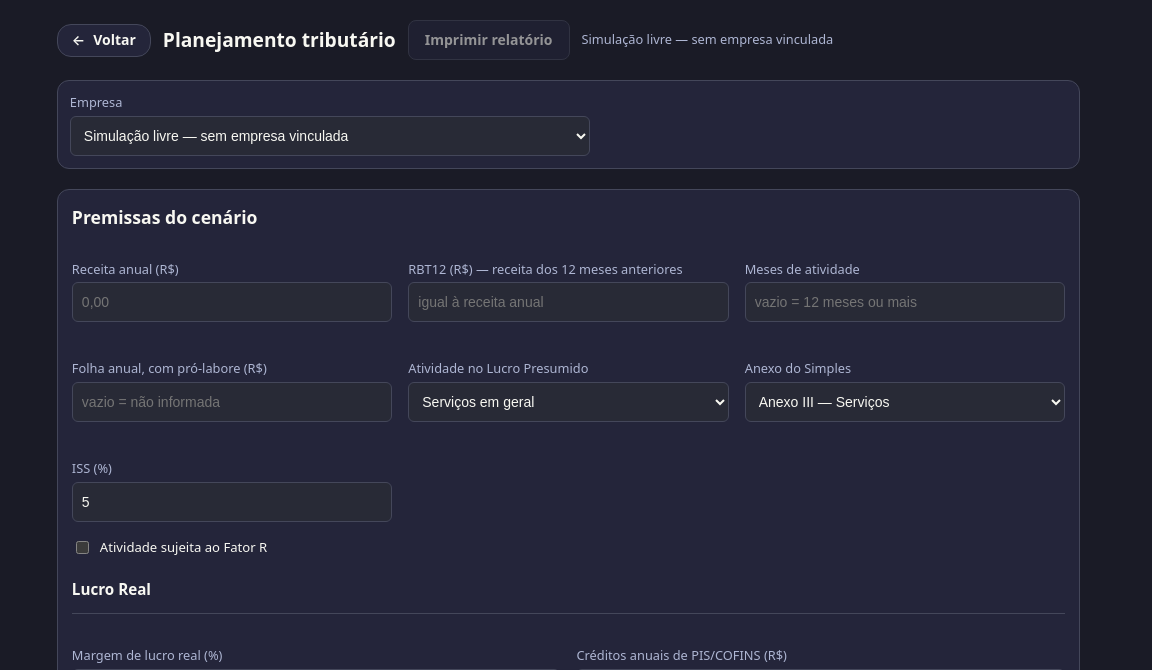
Scenario: ⚠⚠⚠ a confirmação do art. 15 § 4º NÃO atravessa a troca de empresa › ⚠⚠ e VOLTAR para a simulação livre também limpa — ali o prefill nem roda
The width and height of the screenshot is (1152, 670).
Select "ALFA SERVICOS LTDA — 11111111000111" in the dropdown labelled "Empresa" at (330, 136), box [70,116,590,156]
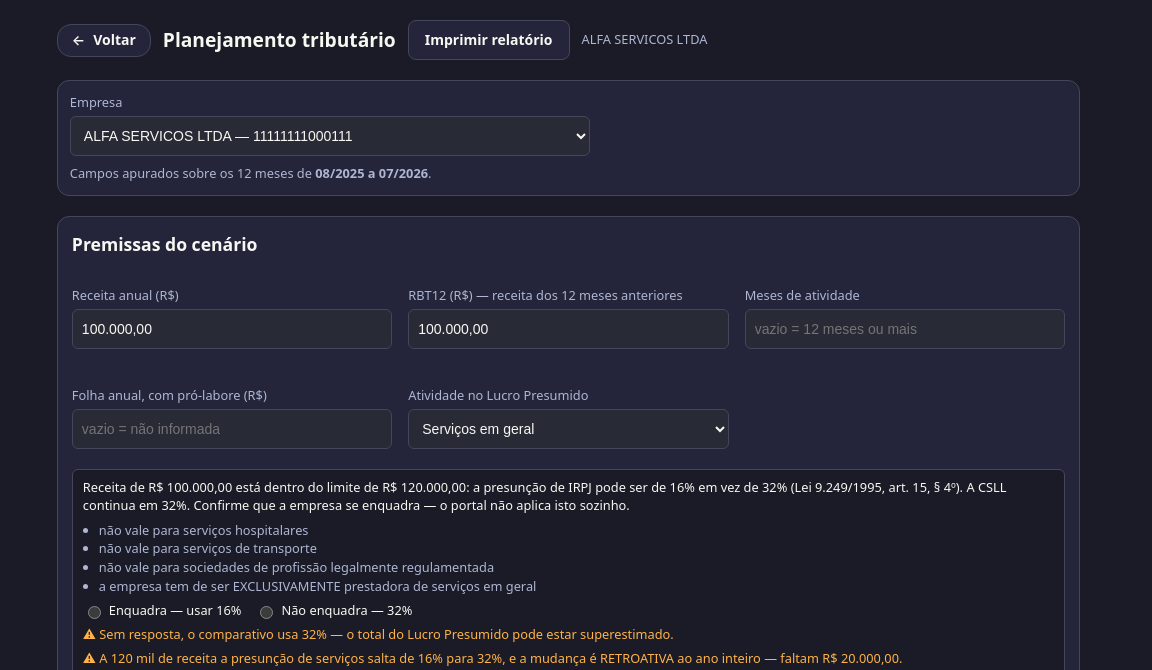
Result: the radio button labelled "Enquadra — usar 16%" is shown
Click the radio button labelled "Enquadra — usar 16%" at (94, 612), box [88,606,101,619]
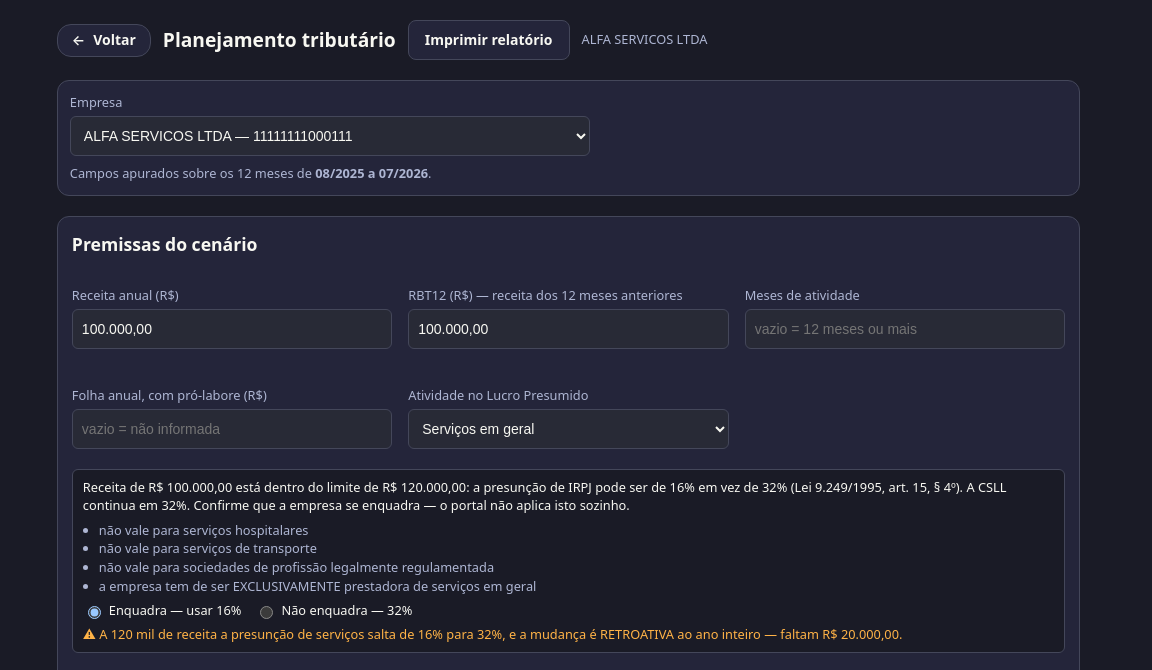
Result: the radio button labelled "Enquadra — usar 16%" is checked at [88,606,101,619]
Select "Simulação livre — sem empresa vinculada" in the dropdown labelled "Empresa" at (330, 136), box [70,116,590,156]
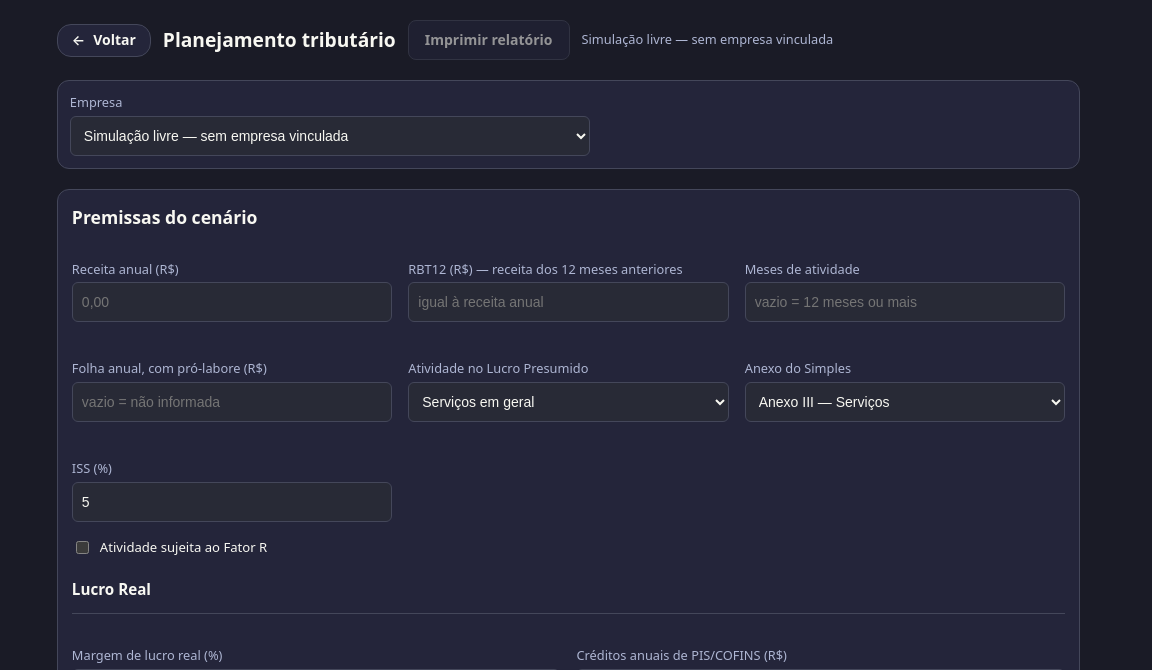
Result: the label labelled "Enquadra — usar 16%" is gone
Type "10000000" into the field labelled "Receita anual (R$)" at (232, 302), box [72,282,392,322]
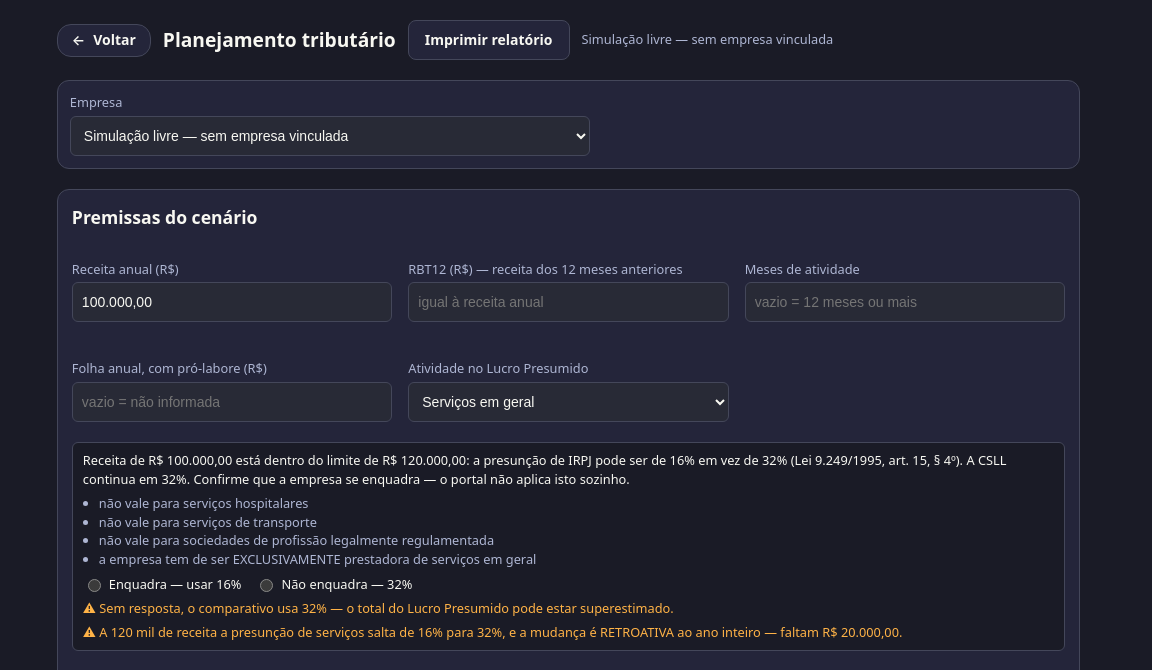
Result: the radio button labelled "Enquadra — usar 16%" is not checked at [88,579,101,592]
Result: the text "o comparativo usa 32%" is shown at [83,599,674,617]
